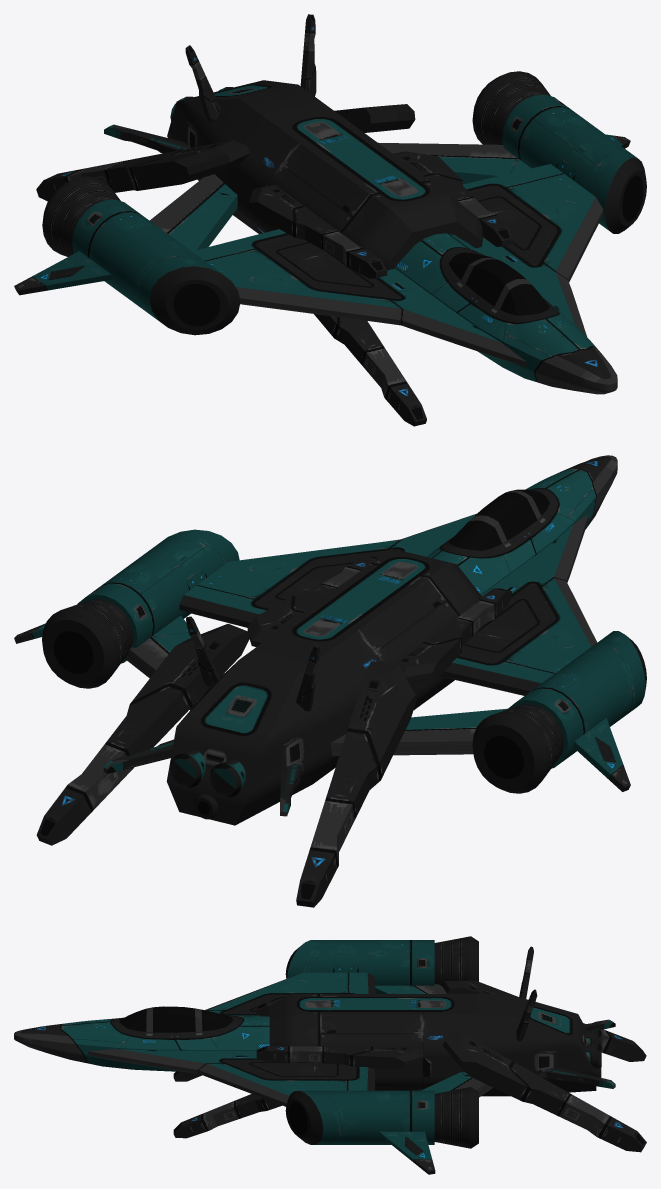
Rendered from StarSparrow_Wing.fbx.
3 renders of one model, top to bottom at view 1: azimuth 30°, elevation 25°; view 2: azimuth 150°, elevation 25°; view 3: azimuth 270°, elevation 25°, orthographic. The views are drawn at different scales.
Visible parts, largest first — view 1: StarSparrow_Wing; view 2: StarSparrow_Wing; view 3: StarSparrow_Wing.
Boxes of the visible parts, <box> form: StarSparrow_Wing: <box>14,14,646,426</box>; StarSparrow_Wing: <box>14,455,646,907</box>; StarSparrow_Wing: <box>14,936,646,1174</box>.
Size of the model in its own units: 1055 by 318 by 1312.
